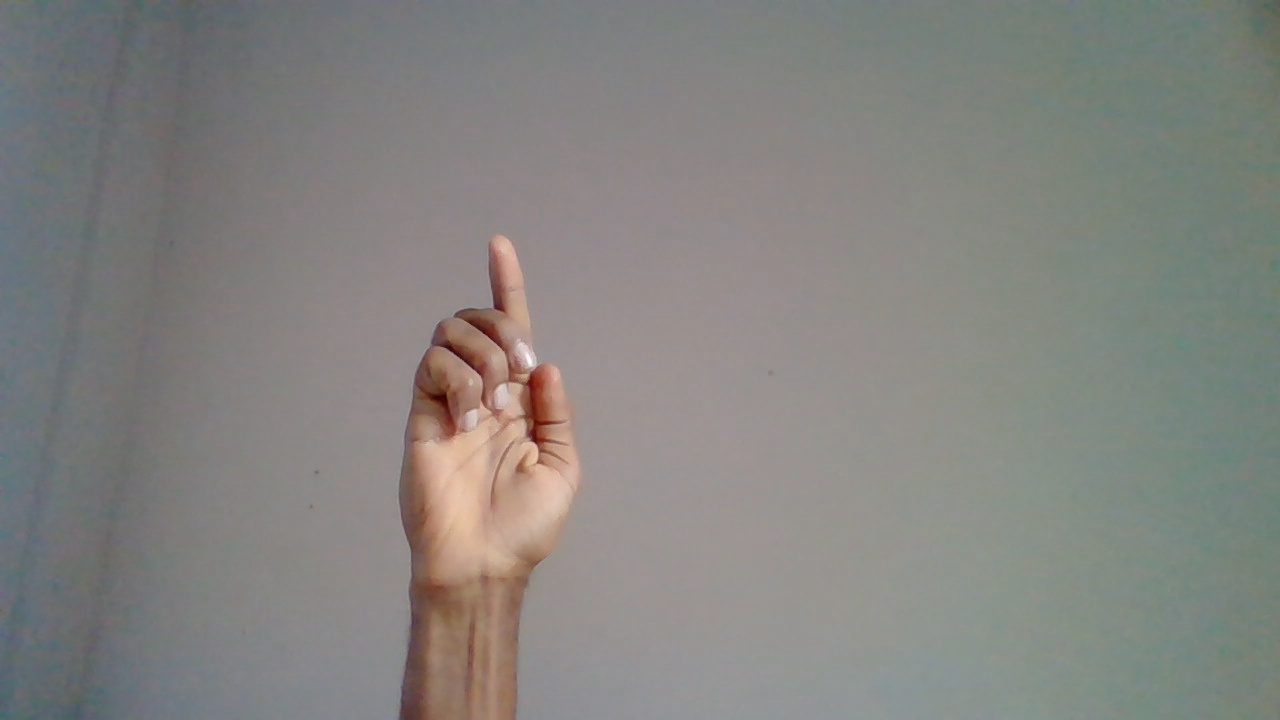qe: (408, 236, 589, 697)
